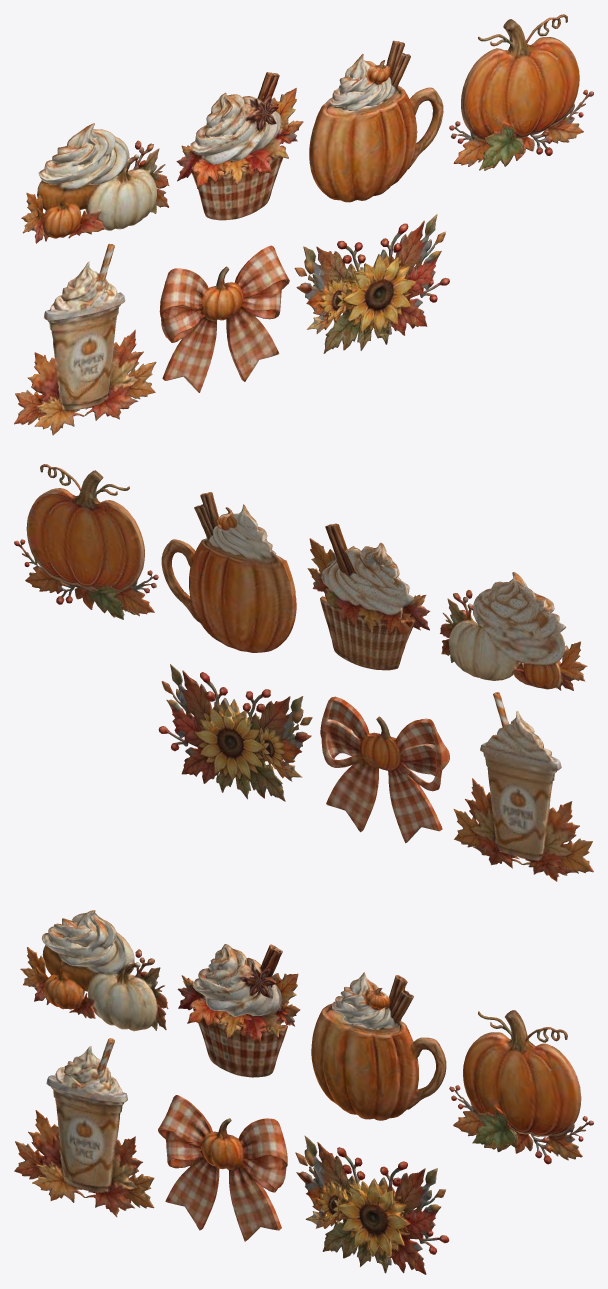
3 views of the same model, one above another, from view 1: azimuth 30°, elevation 25°; view 2: azimuth 150°, elevation 25°; view 3: azimuth 330°, elevation 25° (orthographic).
Parts seen in each view (by area): view 1: Mesh 9, Mesh 1, Mesh 8, Mesh 6, Mesh 2, Mesh 4, Mesh 5; view 2: Mesh 8, Mesh 9, Mesh 1, Mesh 6, Mesh 2, Mesh 4, Mesh 5; view 3: Mesh 9, Mesh 1, Mesh 8, Mesh 6, Mesh 4, Mesh 2, Mesh 5.
Boxes of the visible parts, <box> form: Mesh 9: <box>449,14,593,170</box>; Mesh 1: <box>14,243,156,435</box>; Mesh 8: <box>309,40,443,202</box>; Mesh 6: <box>294,214,449,353</box>; Mesh 2: <box>21,123,169,243</box>; Mesh 4: <box>159,245,289,392</box>; Mesh 5: <box>176,72,303,220</box>; Mesh 8: <box>161,492,296,652</box>; Mesh 9: <box>14,464,158,619</box>; Mesh 1: <box>453,692,593,881</box>; Mesh 6: <box>158,664,312,801</box>; Mesh 2: <box>440,572,587,690</box>; Mesh 4: <box>320,696,449,843</box>; Mesh 5: <box>307,523,430,670</box>; Mesh 9: <box>449,1010,593,1164</box>; Mesh 1: <box>14,1038,154,1217</box>; Mesh 8: <box>311,972,446,1120</box>; Mesh 6: <box>295,1135,449,1274</box>; Mesh 4: <box>158,1095,287,1241</box>; Mesh 2: <box>20,910,168,1031</box>; Mesh 5: <box>177,944,300,1077</box>.
Bounding box in the file's own units: 1.9 × 0.9649 × 0.0572.
7 materials, 7 textured.
